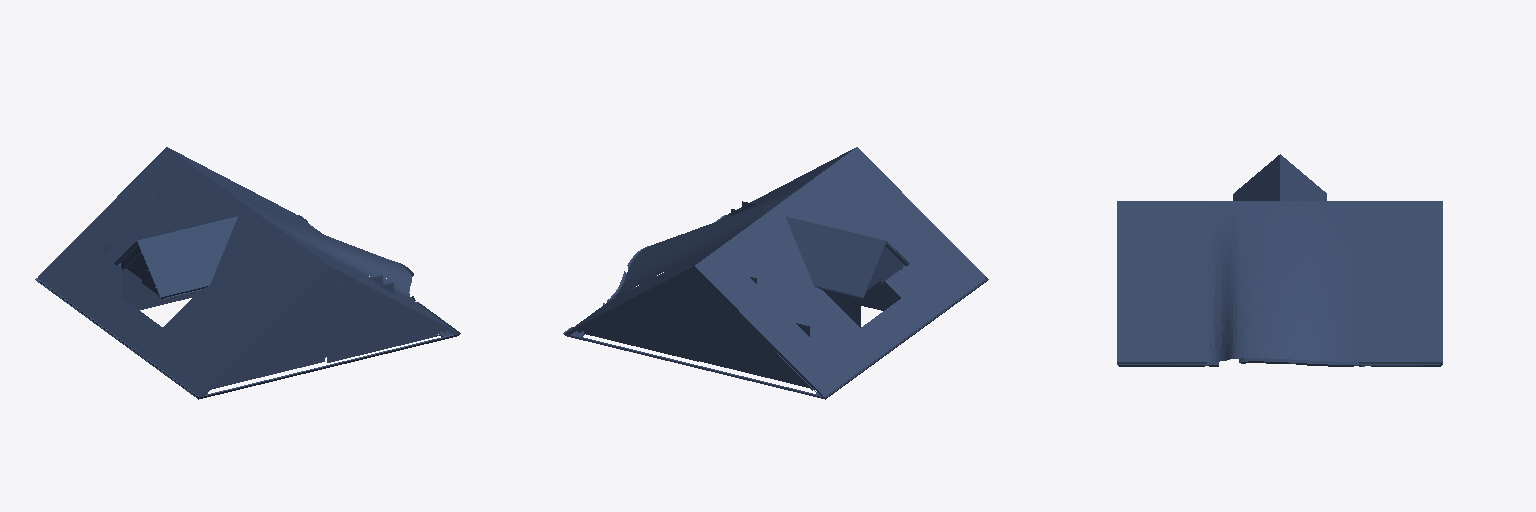
The model's file is Roof.obj.
3 renders of one model, left to right at view 1: azimuth 30°, elevation 25°; view 2: azimuth 150°, elevation 25°; view 3: azimuth 270°, elevation 25°, orthographic.
Parts seen in each view (by area): view 1: object_3, object_2, object_20, object_25, Bad_faces, object_44, object_19, object_17; view 2: object_3, object_2, object_30, object_32, Bad_faces, object_44, object_19, object_14; view 3: object_3, object_2.
Boxes of the visible parts, <box> form: object_3: <box>40,151,454,393</box>; object_2: <box>38,147,457,395</box>; object_20: <box>38,273,327,396</box>; object_25: <box>327,278,439,362</box>; Bad_faces: <box>91,148,405,373</box>; object_44: <box>35,215,460,399</box>; object_19: <box>122,269,177,306</box>; object_17: <box>328,272,439,334</box>; object_3: <box>569,151,983,393</box>; object_2: <box>566,147,985,395</box>; object_30: <box>586,276,698,361</box>; object_32: <box>698,276,808,387</box>; Bad_faces: <box>694,148,964,342</box>; object_44: <box>563,215,988,399</box>; object_19: <box>698,275,896,390</box>; object_14: <box>584,272,697,334</box>; object_3: <box>1121,204,1438,361</box>; object_2: <box>1117,155,1442,361</box>.
Size of the model in its own units: 38.98 by 13.73 by 39.26.